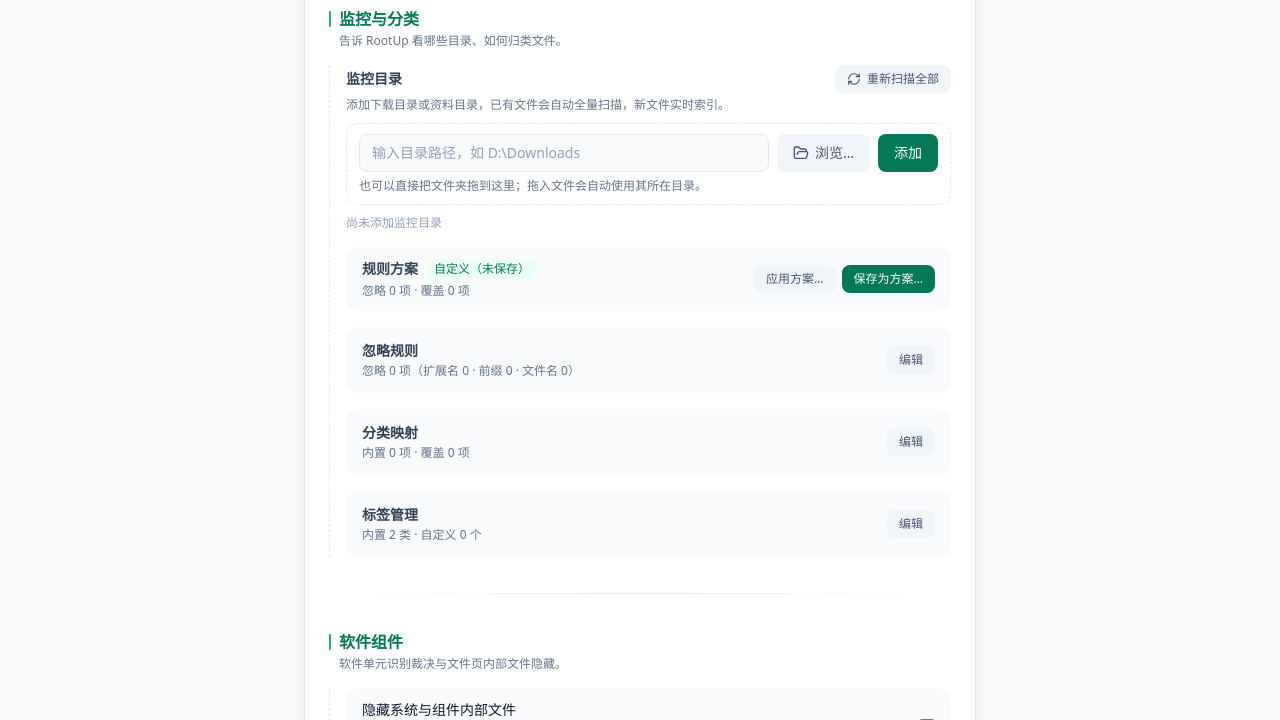
Test: SettingsPage › 点击设置行打开说明弹窗，编辑按钮打开编辑弹窗且互不干扰
The image size is (1280, 720).
(page scrolled)
Click the button "忽略规则 忽略 0 项（扩展名 0 · 前缀 0 · 文件名 0） 编辑": (390, 350) [346, 327, 951, 393]
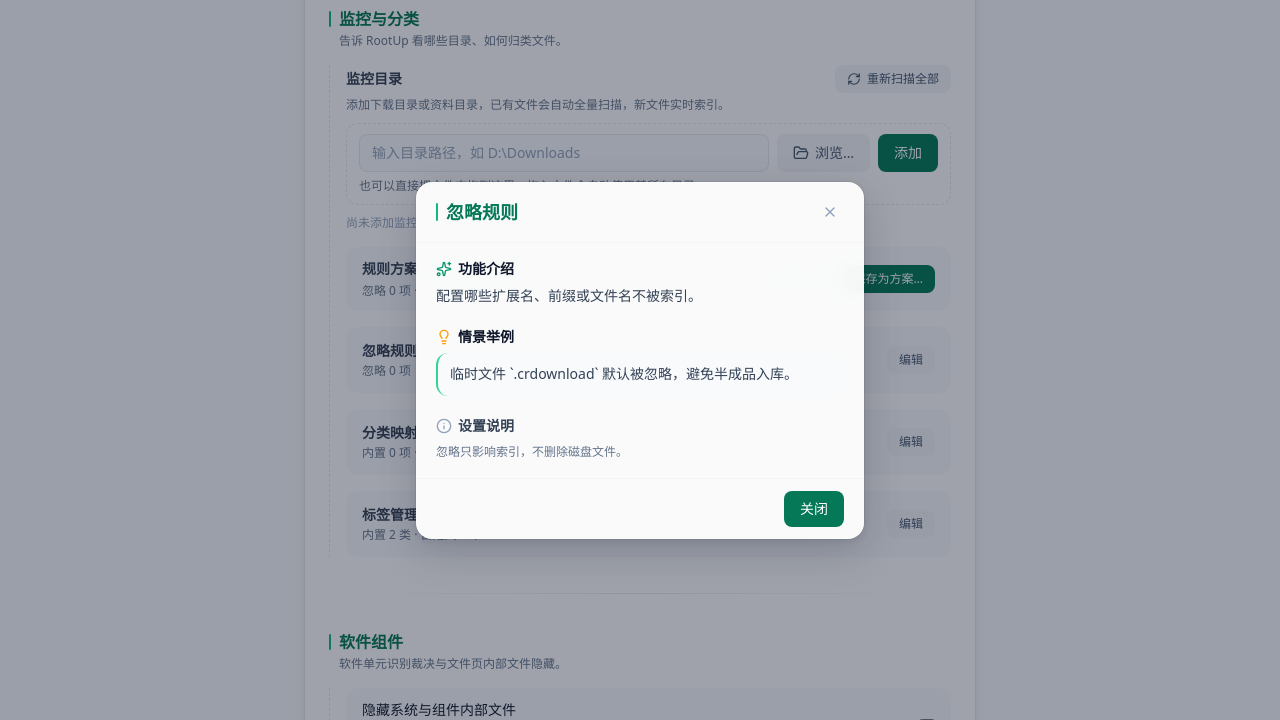
Expected: the dialog "编辑忽略规则" is not shown
Expected: the dialog "忽略规则" is shown, [416, 182, 864, 538]
Expected: the text "功能介绍" is shown, [458, 258, 514, 278]
Click the button "关闭": (814, 508) [784, 490, 844, 526]
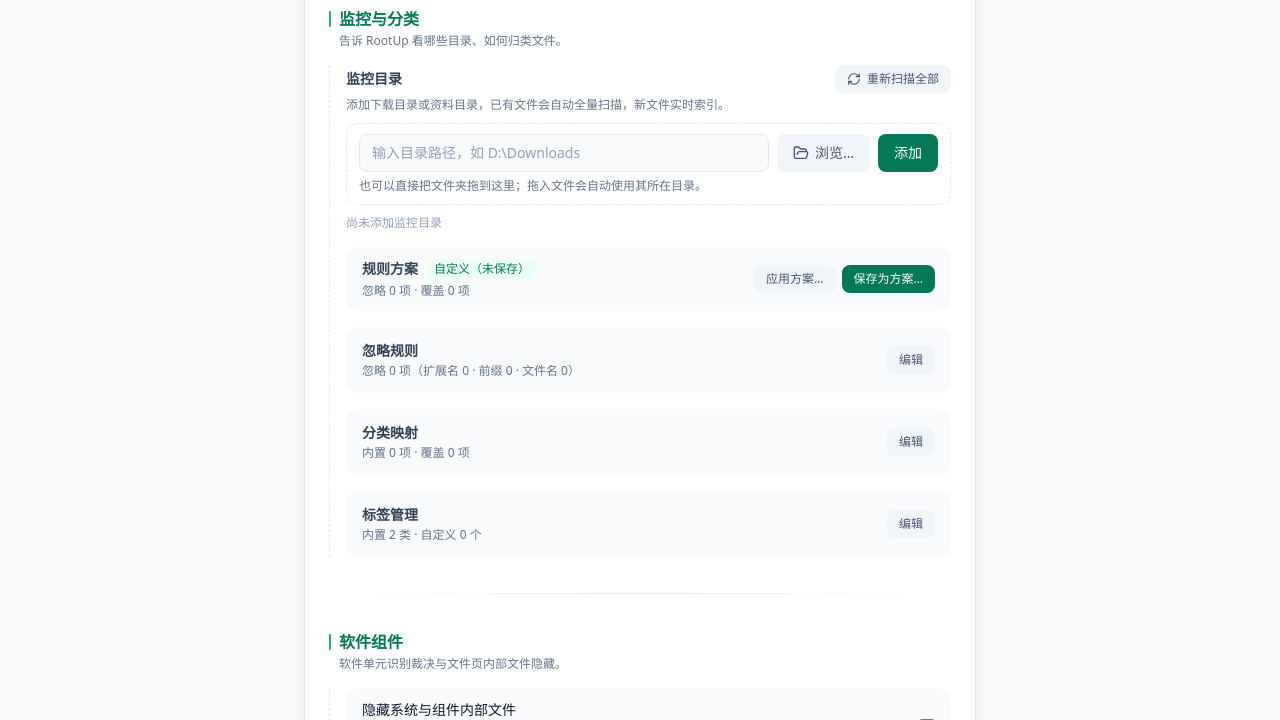
Expected: the dialog is gone
Click the 1st button "编辑": (911, 360) [887, 346, 935, 374]
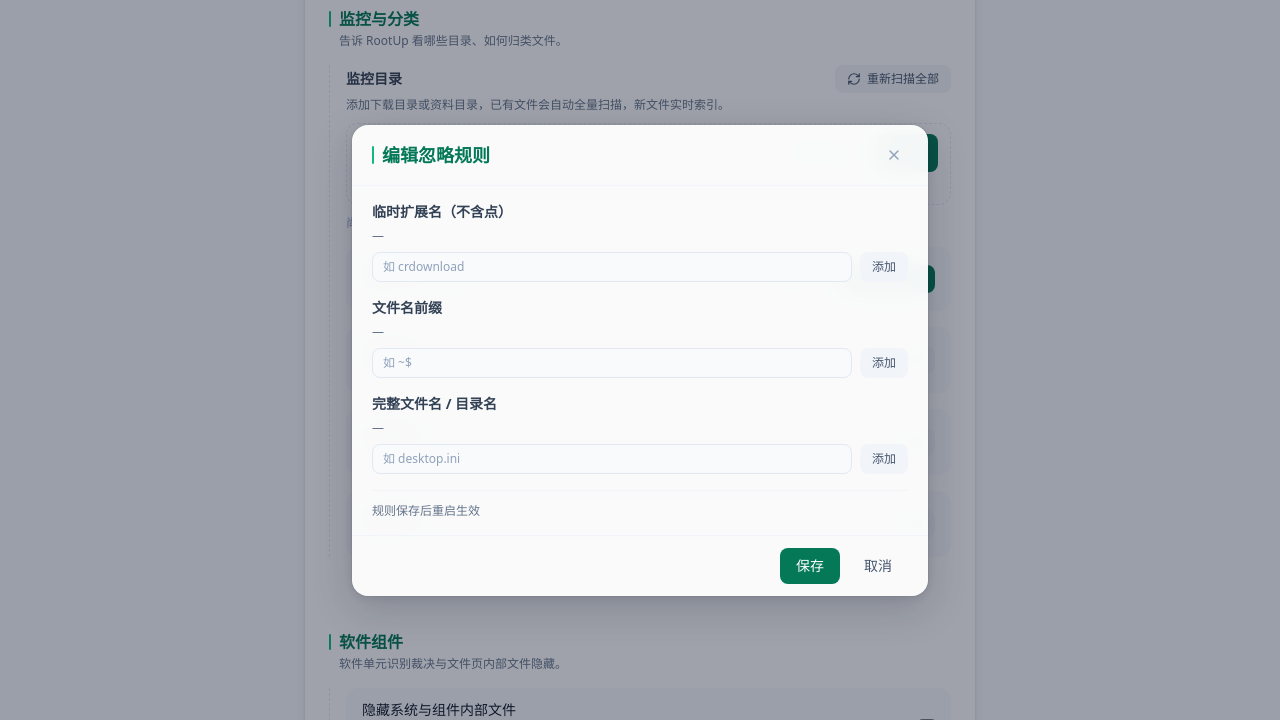
Expected: the text "功能介绍" is not shown
Expected: the dialog "编辑忽略规则" is shown, [352, 124, 928, 596]
